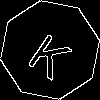K: (25, 25, 79, 81)
